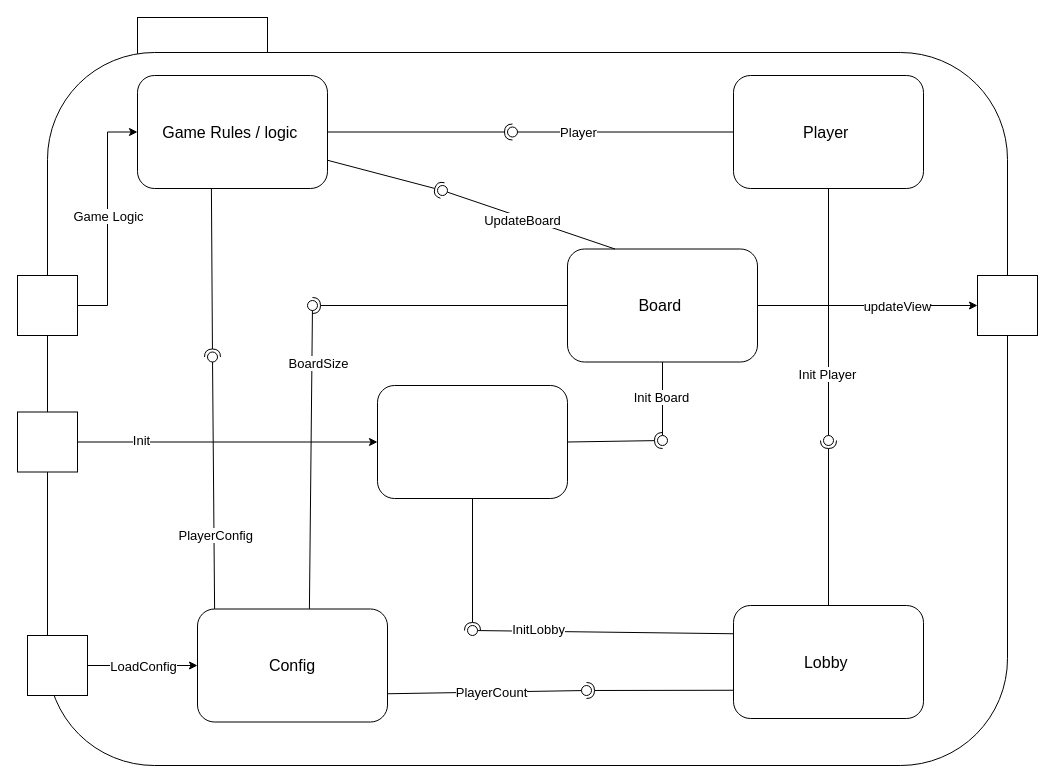
Some shapes in this 1055 by 783 pixel diagram are drawn without their labels. Here are the shapes that lost their labels. From the top down, the centre of each, then its label:
At point (202, 37): "Model".
At point (472, 441): "initilizer".
